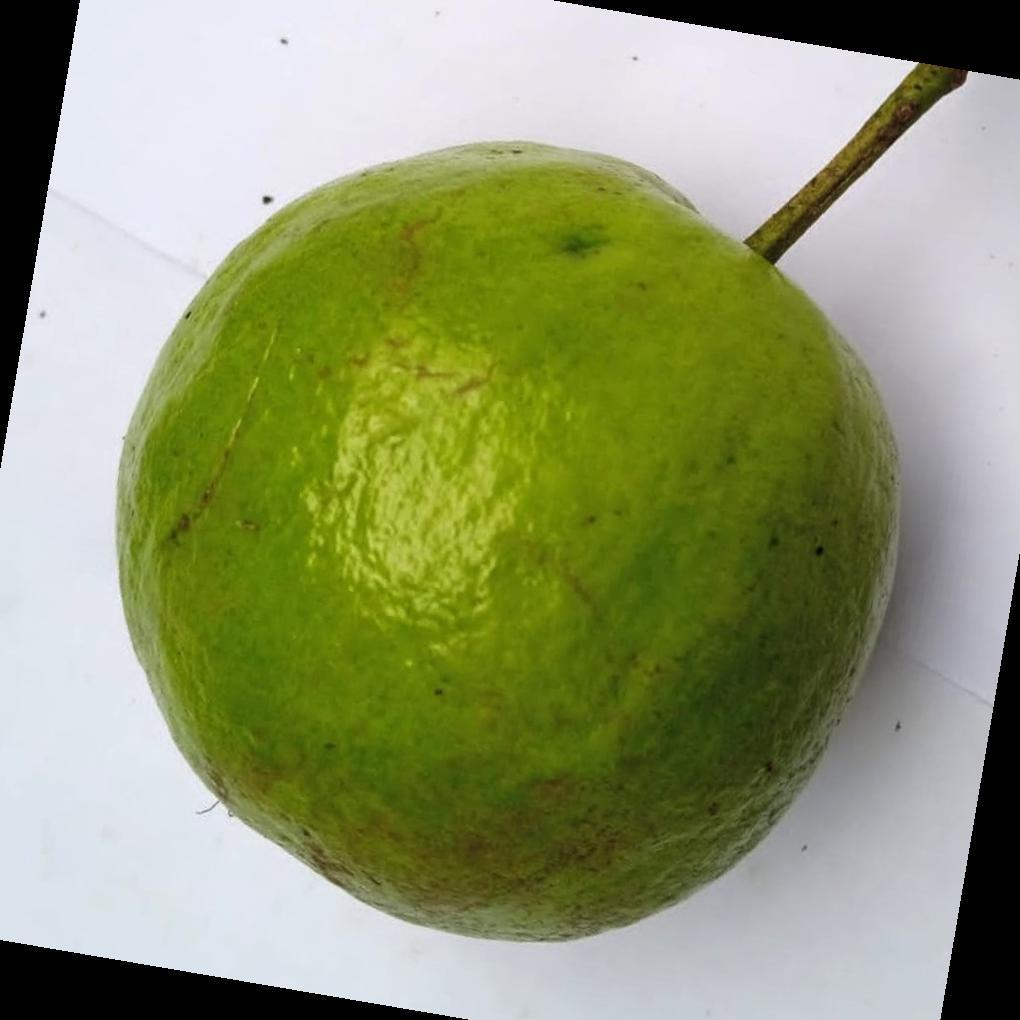FreshGuava: (112, 143, 902, 949)
